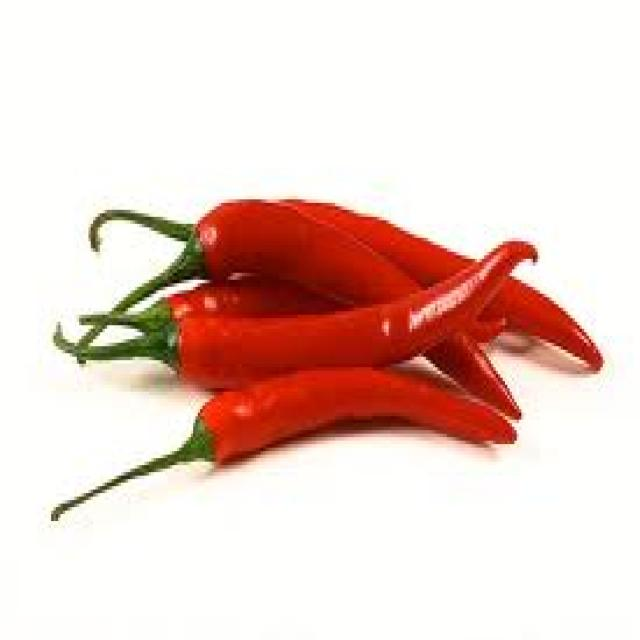chili: (31, 182, 614, 535)
